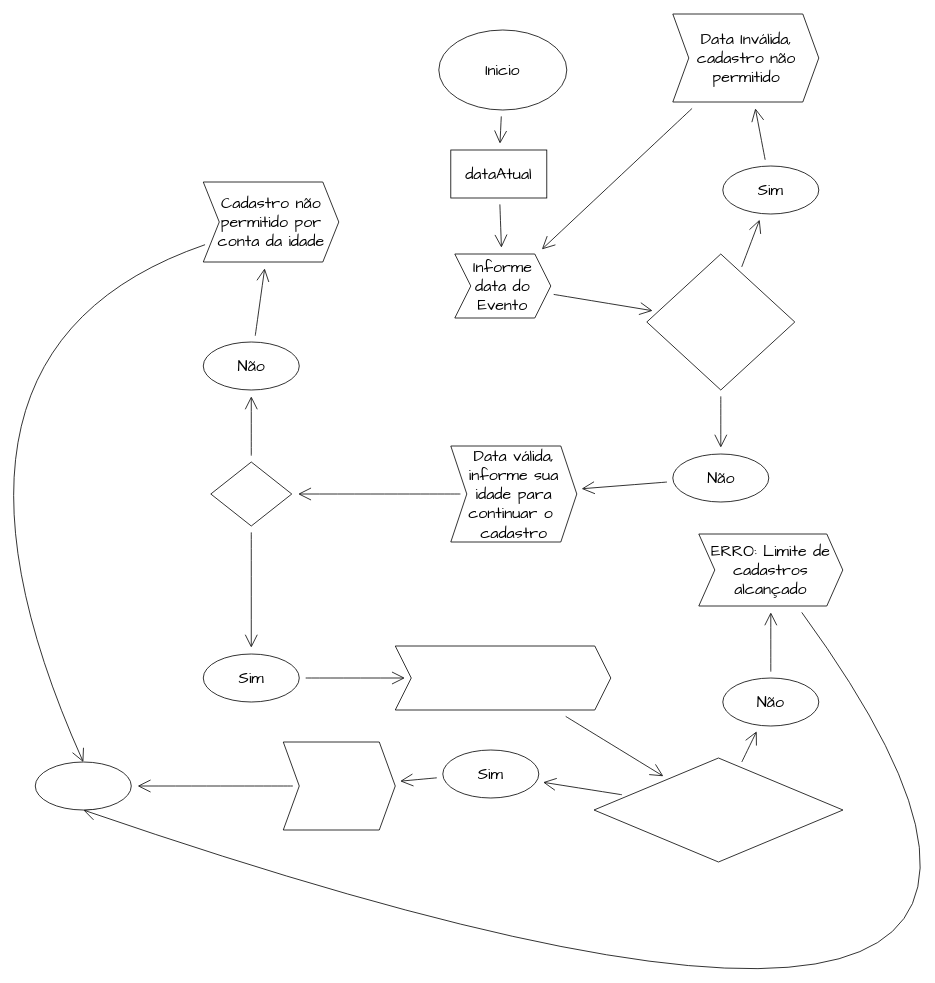
This 935x983 diagram has some shape labels left out. The box of each missing label's shape, as (x1, y1, x2, y2) in pixels:
Cadastro feito com sucesso: (282, 741, 395, 830)
dataAtual é anterior a do Evento?: (646, 253, 795, 390)
FIM: (34, 761, 131, 810)
idade > 18: (210, 461, 292, 526)
mostrar participantes e palestrantes por evento: (394, 645, 611, 710)
quantidadeParticipantes < 100: (593, 757, 843, 862)
